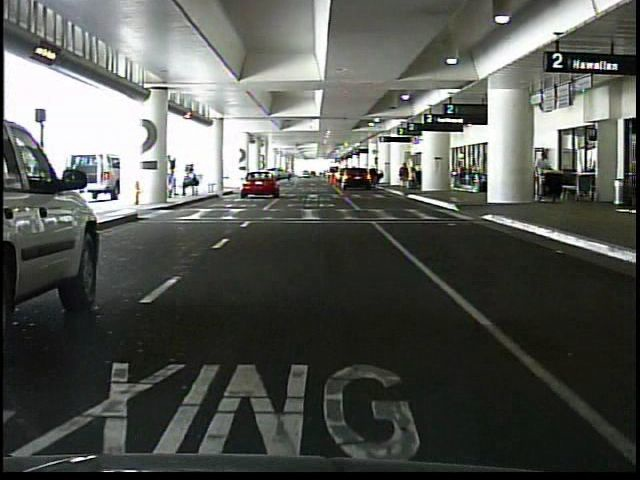person: (533, 149, 551, 201), (166, 150, 180, 200), (183, 167, 203, 197), (399, 161, 413, 192), (465, 162, 476, 195), (453, 162, 465, 189)
